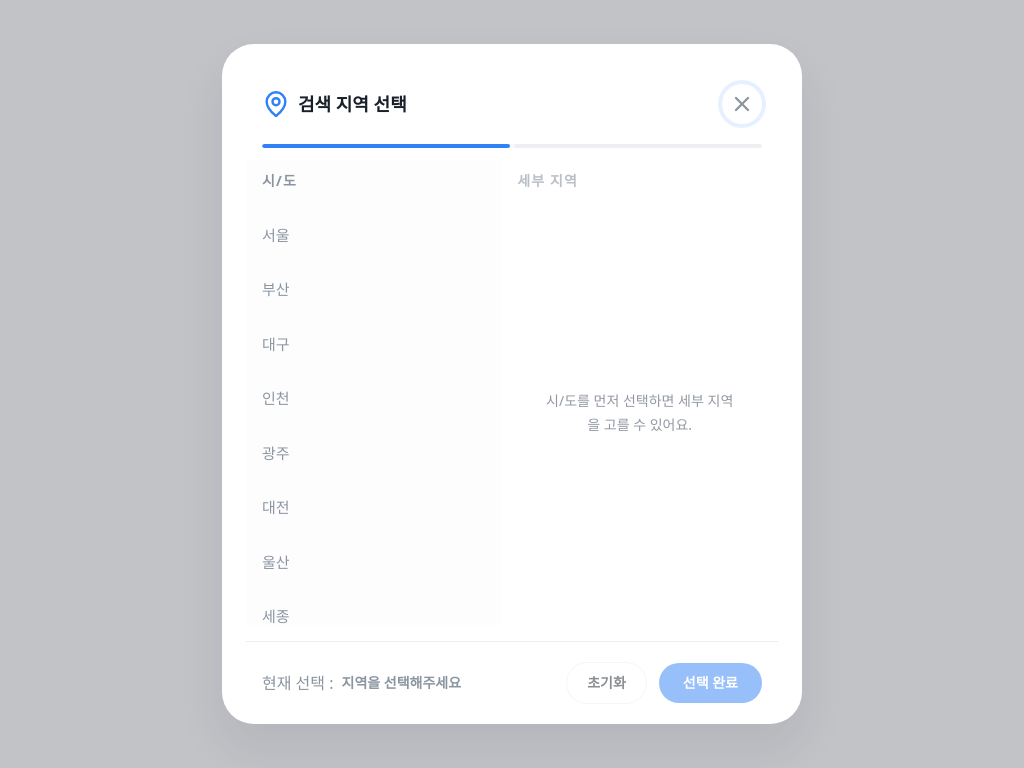
Test: RegionSelectDialog › 확정하지 않고 닫았다가 다시 열면 임시로 고른 지역은 남지 않는다
The width and height of the screenshot is (1024, 768).
Step 1. Click the button "서울" → (370, 235), box x1=246 y1=210 x2=493 y2=260
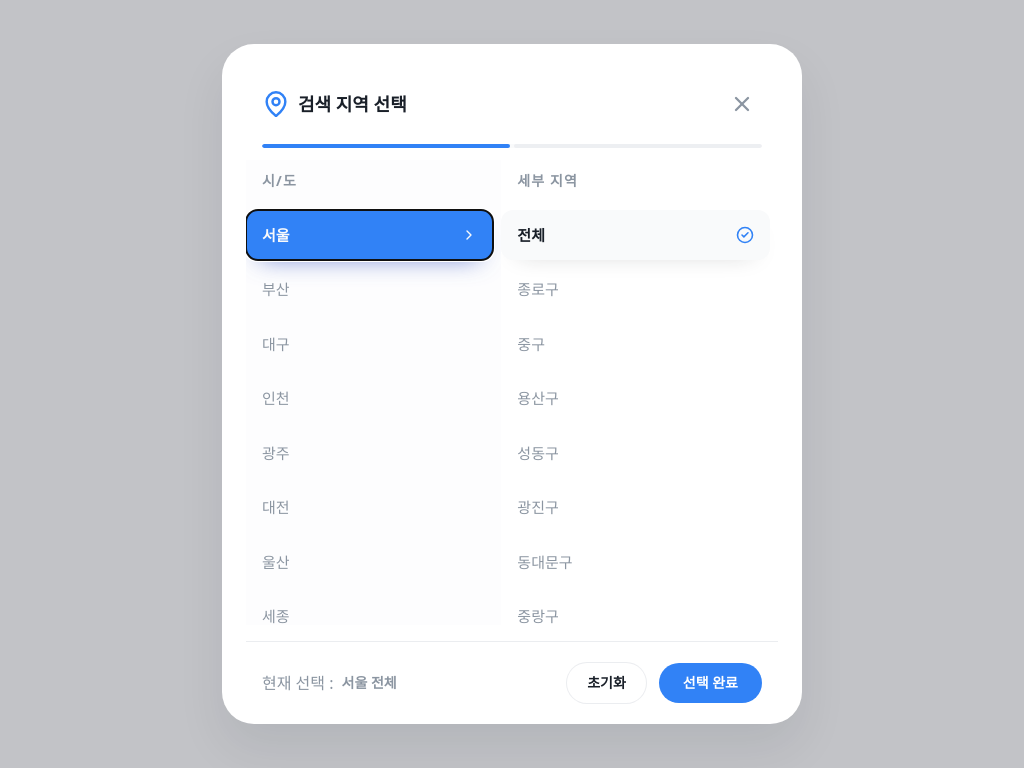
Step 2. Click the button named "닫기" → (742, 104), box x1=722 y1=84 x2=762 y2=124
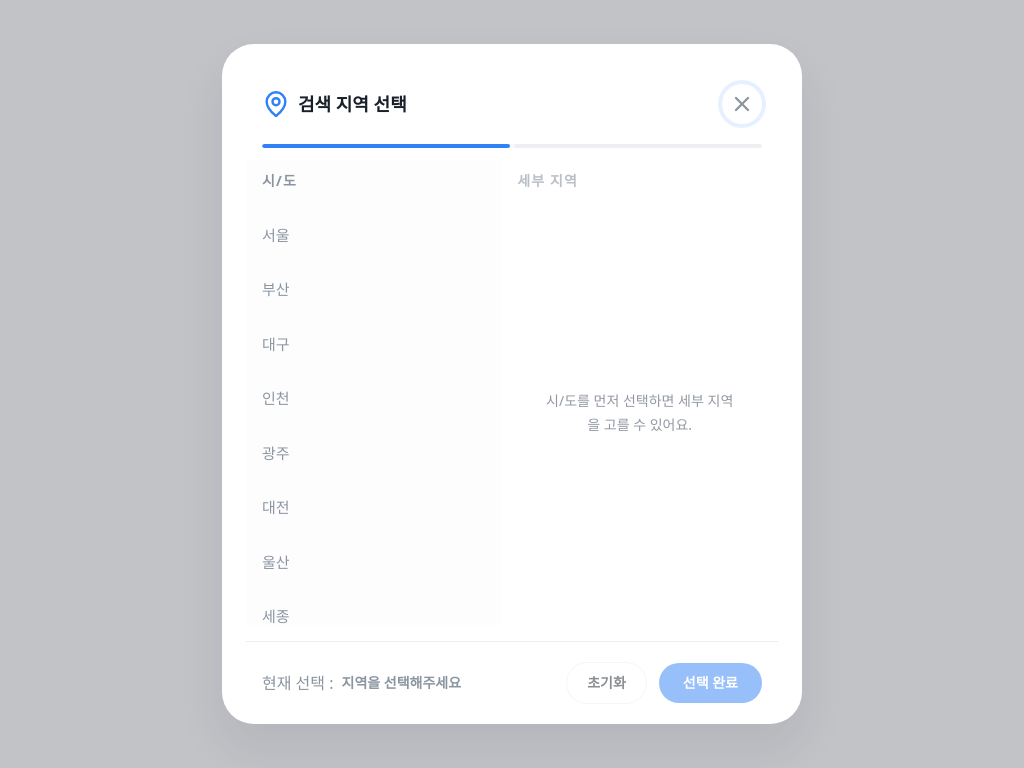
Result: the text "지역을 선택해주세요" is shown at x1=342 y1=673 x2=461 y2=693
Result: the button "전체" is gone
